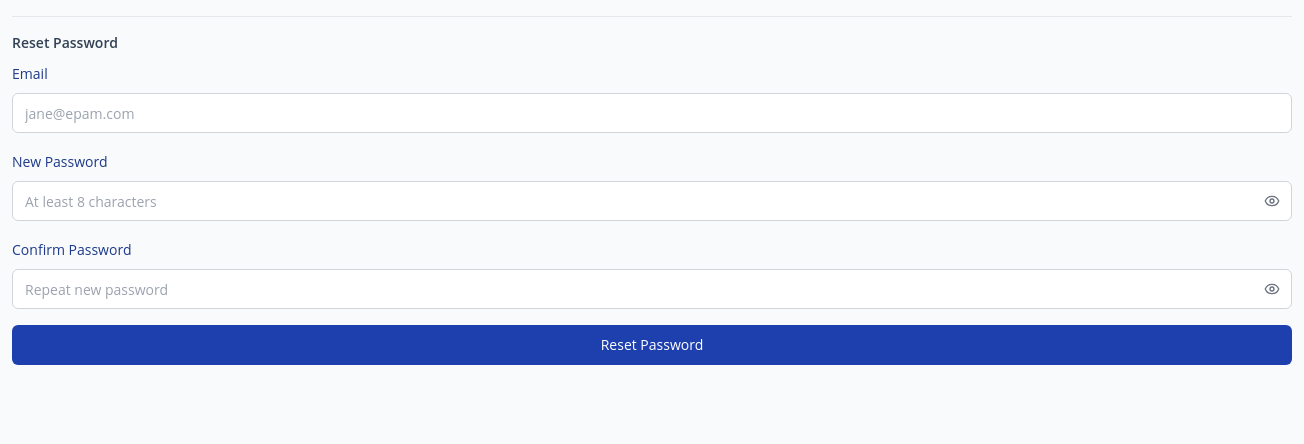
Test: ForgotPasswordForm › shows "No account found with that email address." on 404
In the field labelled "Email": [652, 113] box left=12, top=93, right=1292, bottom=133, type "nobody@epam.com"
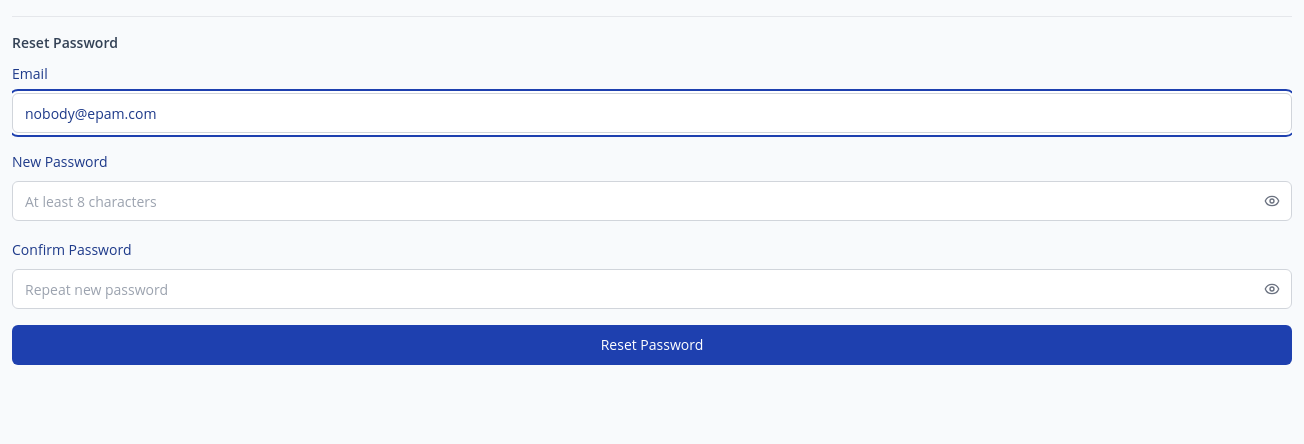
In the password field labelled "New Password": [652, 201] box left=12, top=181, right=1292, bottom=221, type "newpass99"
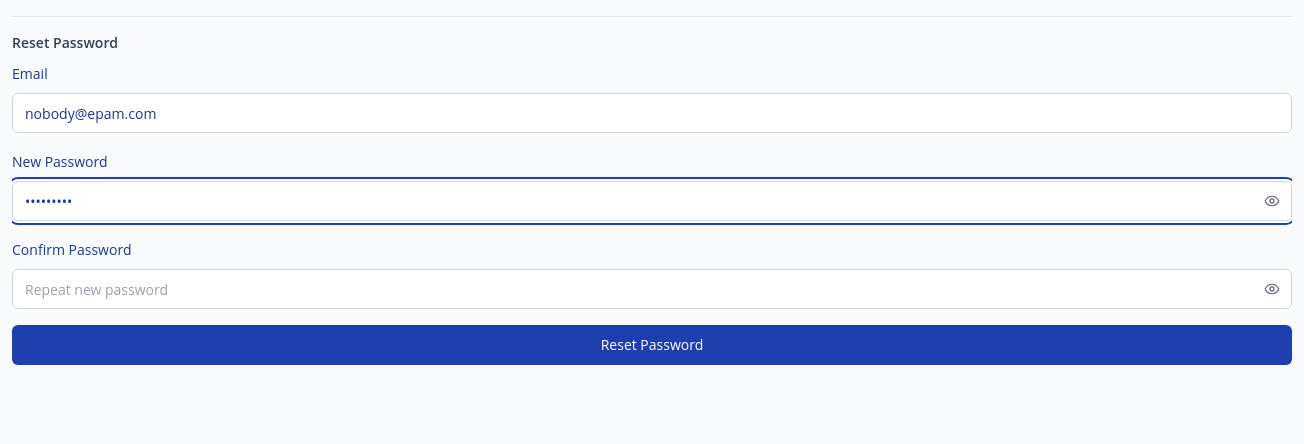
In the password field labelled "Confirm Password": [652, 289] box left=12, top=269, right=1292, bottom=309, type "newpass99"
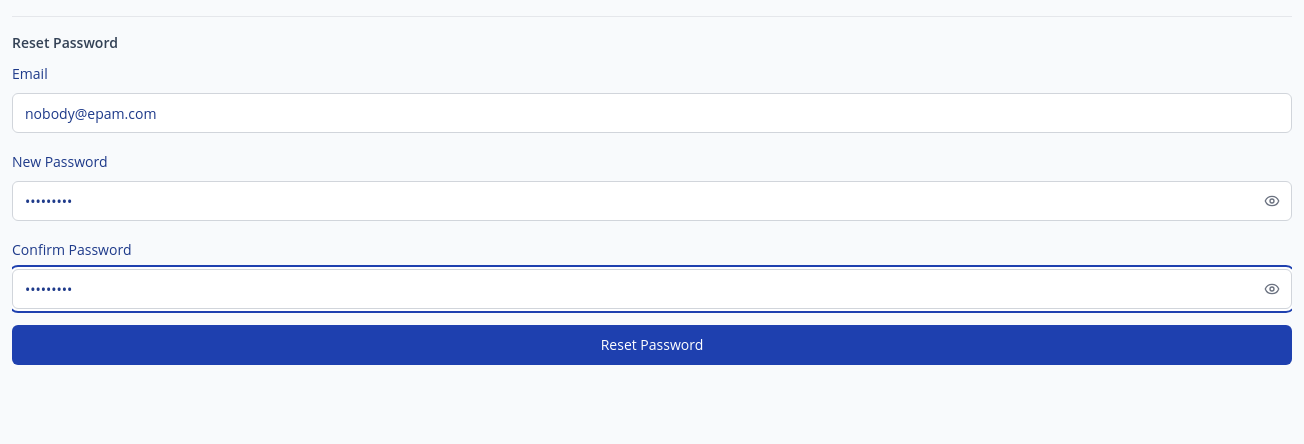
Click the button "Reset Password": [652, 345] box left=12, top=325, right=1292, bottom=365
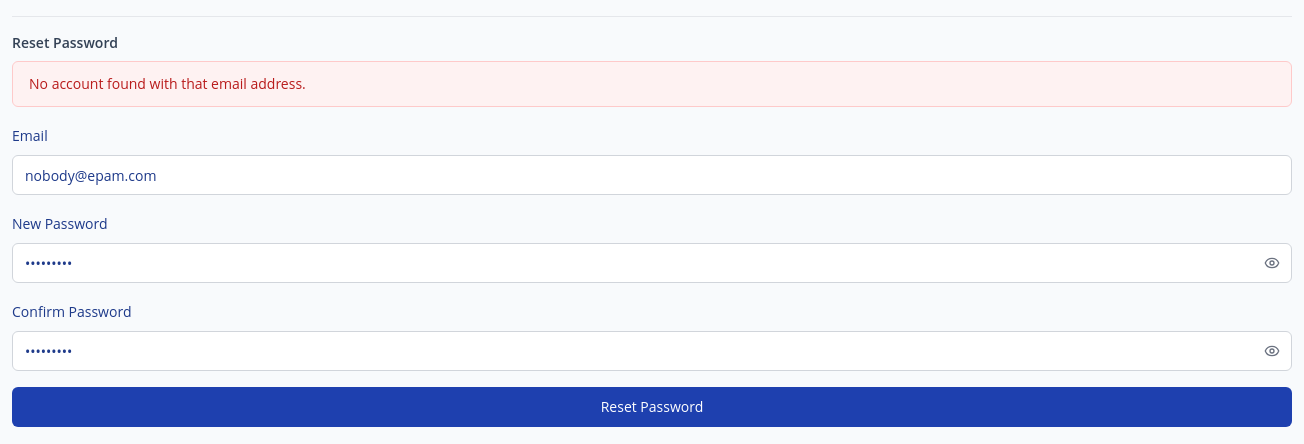
Expected: the message reads "No account found with that email address.", left=29, top=74, right=306, bottom=93
